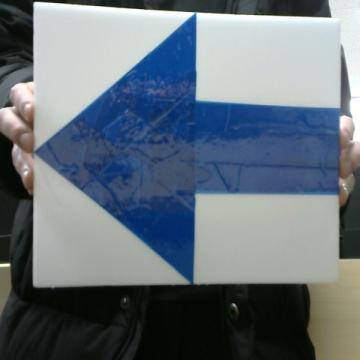blue_left: (37, 14, 338, 280)
